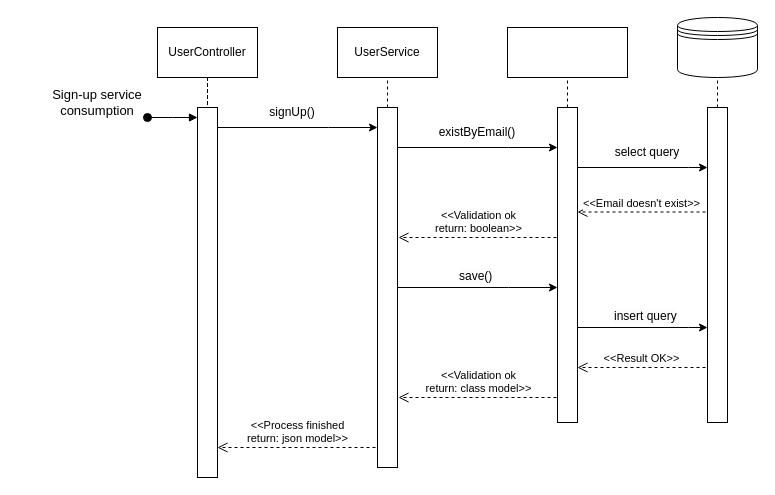
This 775x495 diagram has some shape labels left out. Each missing label, with the centre of its shape:
H2 Database: the point at 717,47
UserRepository: the point at 567,52
